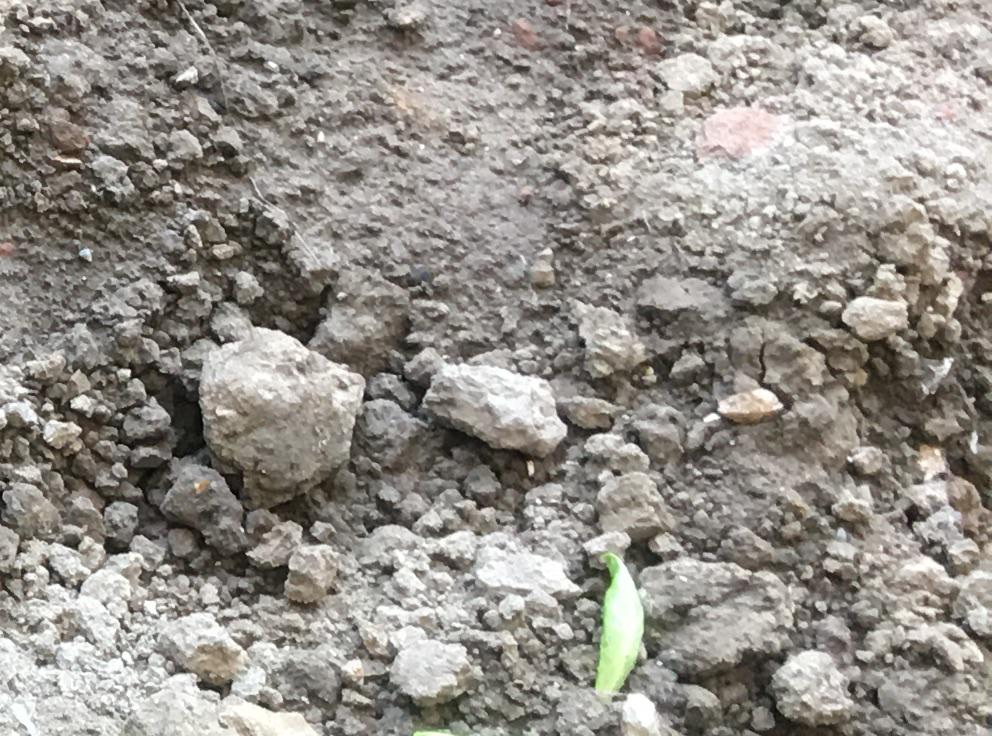block: (201, 334, 362, 506), (422, 362, 569, 464)
